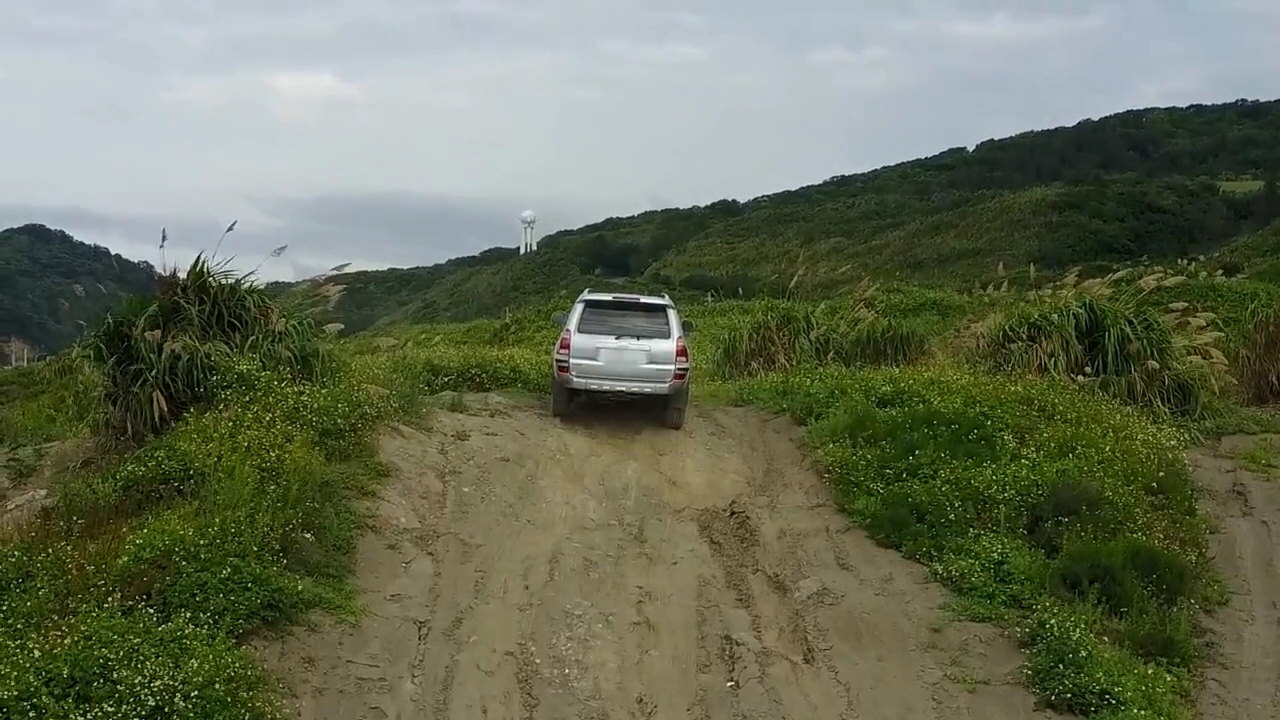araba: (551, 288, 696, 432)
